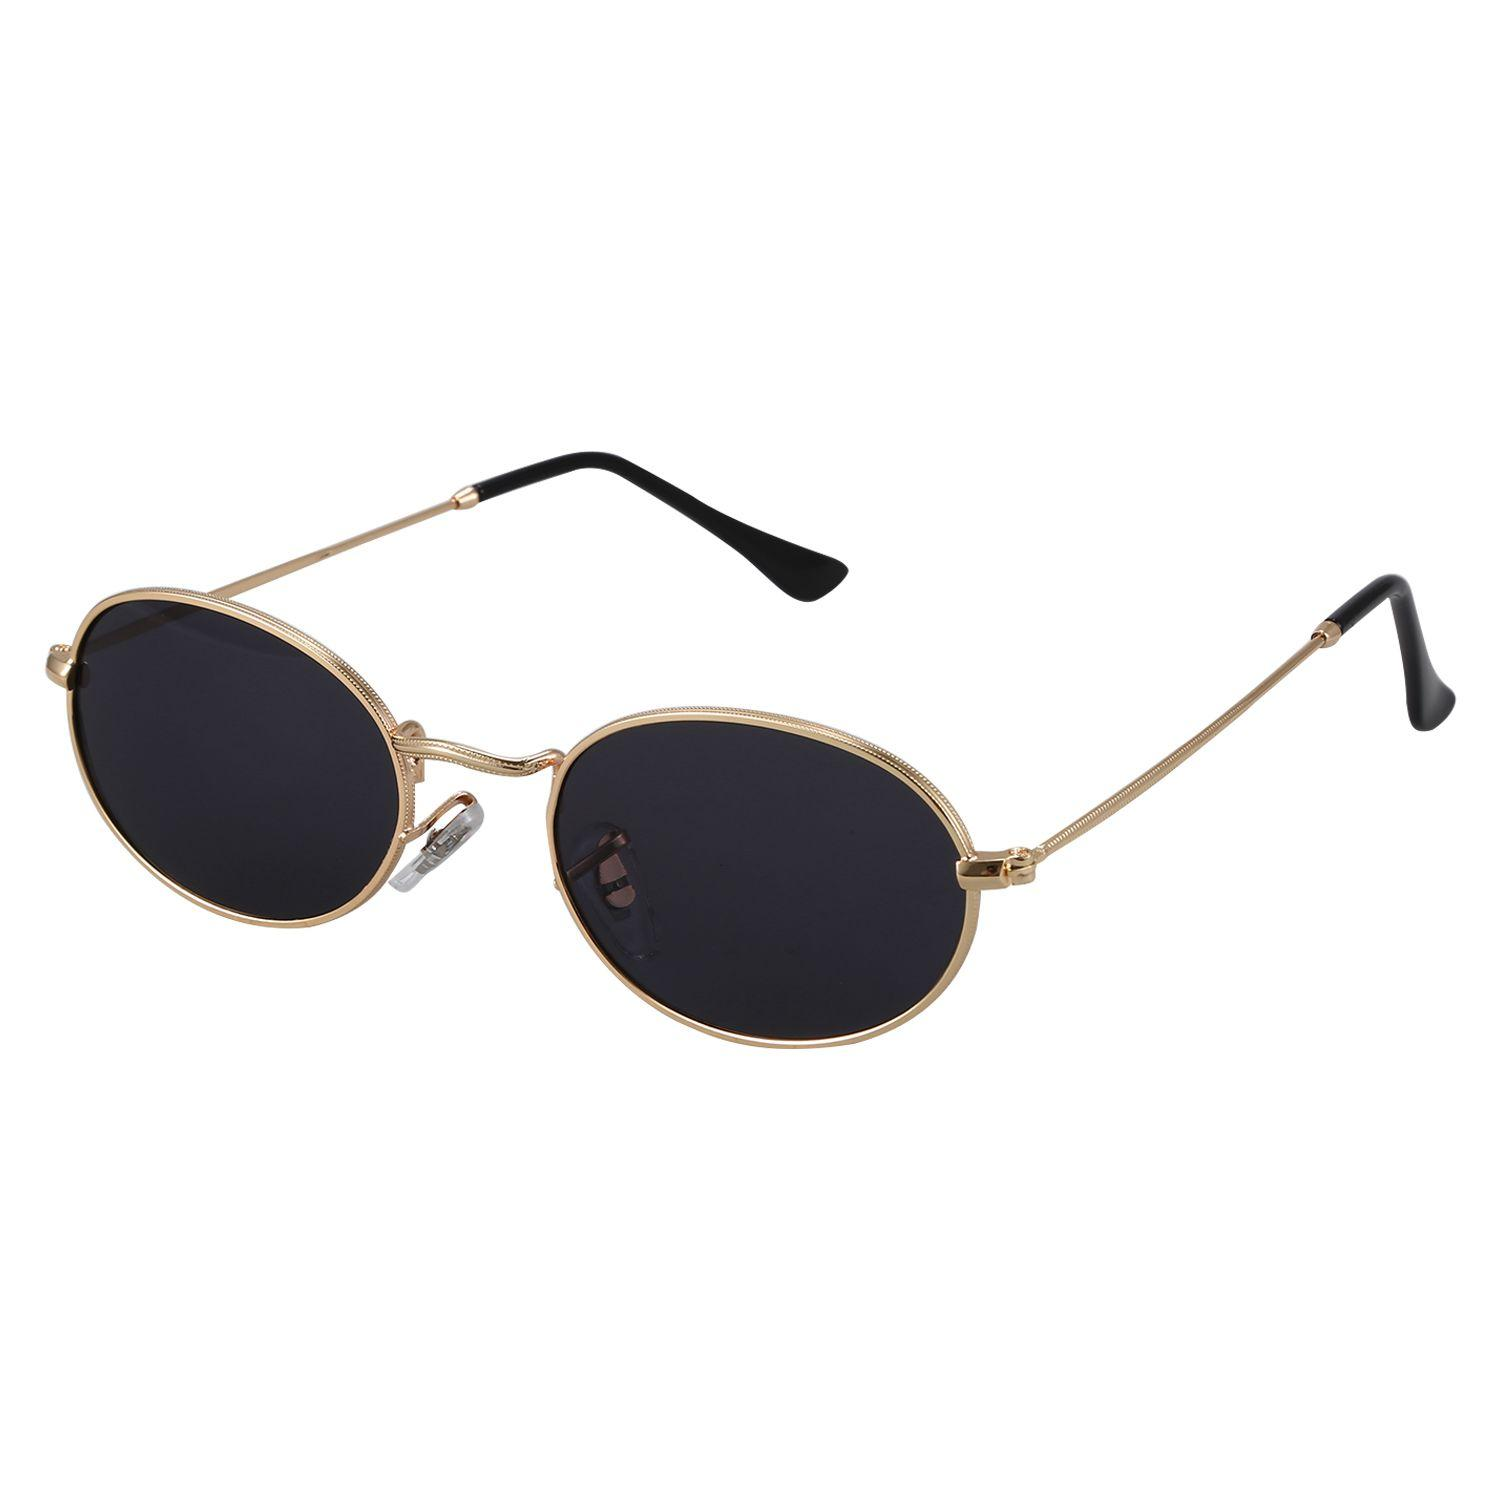sunglasses: (41, 455, 1495, 1043)
